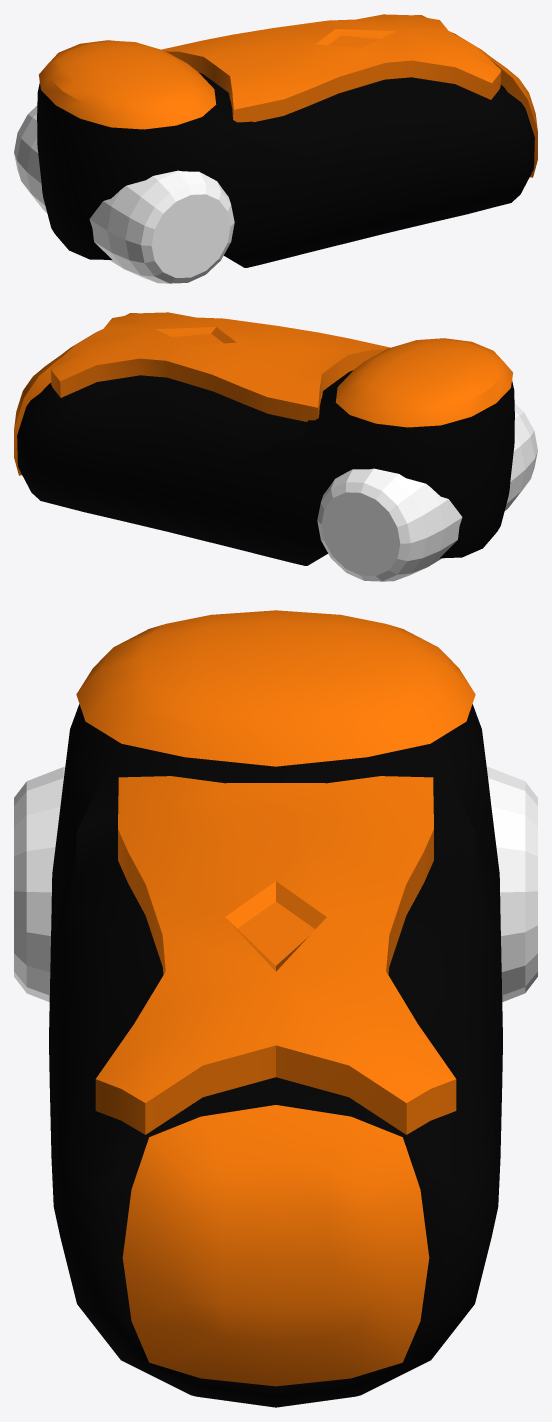
The model's file is new_simHand_id31.fbx.
3 views of the same model, one above another, from view 1: azimuth 30°, elevation 25°; view 2: azimuth 150°, elevation 25°; view 3: azimuth 270°, elevation 25° (orthographic). The views are drawn at different scales.
Visible parts, largest first — view 1: Cube.010, Cylinder.005; view 2: Cube.010, Cylinder.005; view 3: Cube.010, Cylinder.005.
Part boxes in pixels (bbox=[...]): Cube.010: bbox=[37, 14, 537, 267]; Cylinder.005: bbox=[14, 105, 234, 283]; Cube.010: bbox=[14, 312, 514, 565]; Cylinder.005: bbox=[317, 403, 537, 581]; Cube.010: bbox=[49, 610, 502, 1407]; Cylinder.005: bbox=[14, 767, 537, 1001].
Bounding box in the file's own units: 57.78 × 26.34 × 29.17.
